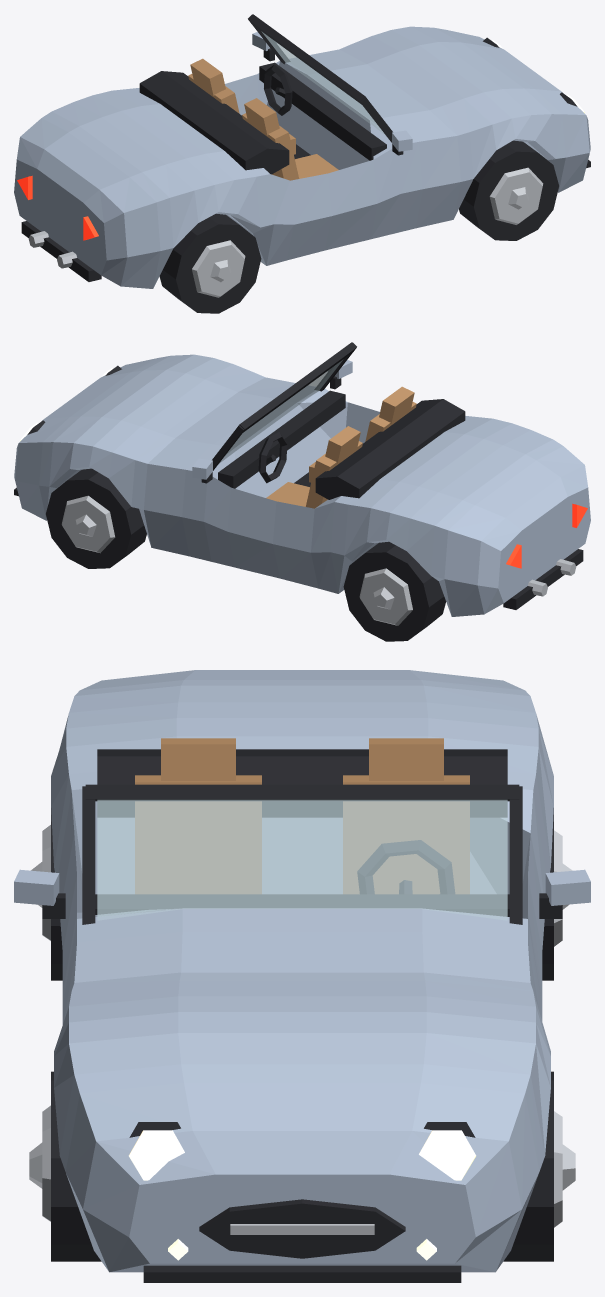
File: roadster.glb
3 views of the same model, one above another, from view 1: azimuth 30°, elevation 25°; view 2: azimuth 150°, elevation 25°; view 3: azimuth 270°, elevation 25° (orthographic). The views are drawn at different scales.
Parts seen in each view (by area): view 1: body, tire (×2), softtop_folded, rim (×2), dash, windshield, windshield_top, diffuser, headrest_L, headrest_R, steering_wheel, seat_back_R (+2 smaller); view 2: body, tire (×2), softtop_folded, rim (×2), dash, windshield, windshield_top, diffuser, headrest_R, headrest_L, steering_wheel, seat_back_L (+2 smaller); view 3: body, windshield, seat_back_R, softtop_folded, seat_back_L, tire (×4), grille, windshield_top, dash, splitter, headrest_L, headrest_R (+9 smaller).
Part boxes in pixels (box(x1,y1,x2,y2)): body: box(14, 26, 590, 288); tire (×2): box(159, 140, 558, 313); softtop_folded: box(139, 71, 289, 174); rim (×2): box(192, 167, 543, 297); dash: box(259, 62, 386, 160); windshield: box(261, 31, 385, 135); windshield_top: box(248, 14, 365, 105); diffuser: box(21, 221, 101, 281); headrest_L: box(190, 58, 225, 96); headrest_R: box(244, 98, 279, 135); steering_wheel: box(264, 64, 292, 115); seat_back_R: box(242, 113, 299, 180); body: box(14, 354, 590, 616); tire (×2): box(46, 468, 446, 641); softtop_folded: box(315, 399, 465, 499); rim (×2): box(61, 495, 412, 625); dash: box(218, 390, 345, 488); windshield: box(219, 359, 343, 463); windshield_top: box(239, 342, 356, 433); diffuser: box(503, 549, 583, 609); headrest_R: box(379, 386, 414, 424); headrest_L: box(325, 426, 360, 463); steering_wheel: box(258, 432, 287, 483); seat_back_L: box(305, 441, 362, 508); body: box(51, 670, 553, 1272); windshield: box(97, 799, 507, 920); seat_back_R: box(135, 775, 261, 893); softtop_folded: box(97, 749, 507, 817); seat_back_L: box(343, 775, 469, 893); tire (×4): box(51, 808, 553, 1261); grille: box(199, 1199, 405, 1258); windshield_top: box(85, 784, 519, 801); dash: box(95, 894, 509, 916); splitter: box(143, 1265, 461, 1282); headrest_L: box(369, 738, 443, 780); headrest_R: box(161, 738, 235, 780).
Bounding box in the file's own units: 3.91 × 1.28 × 2.
